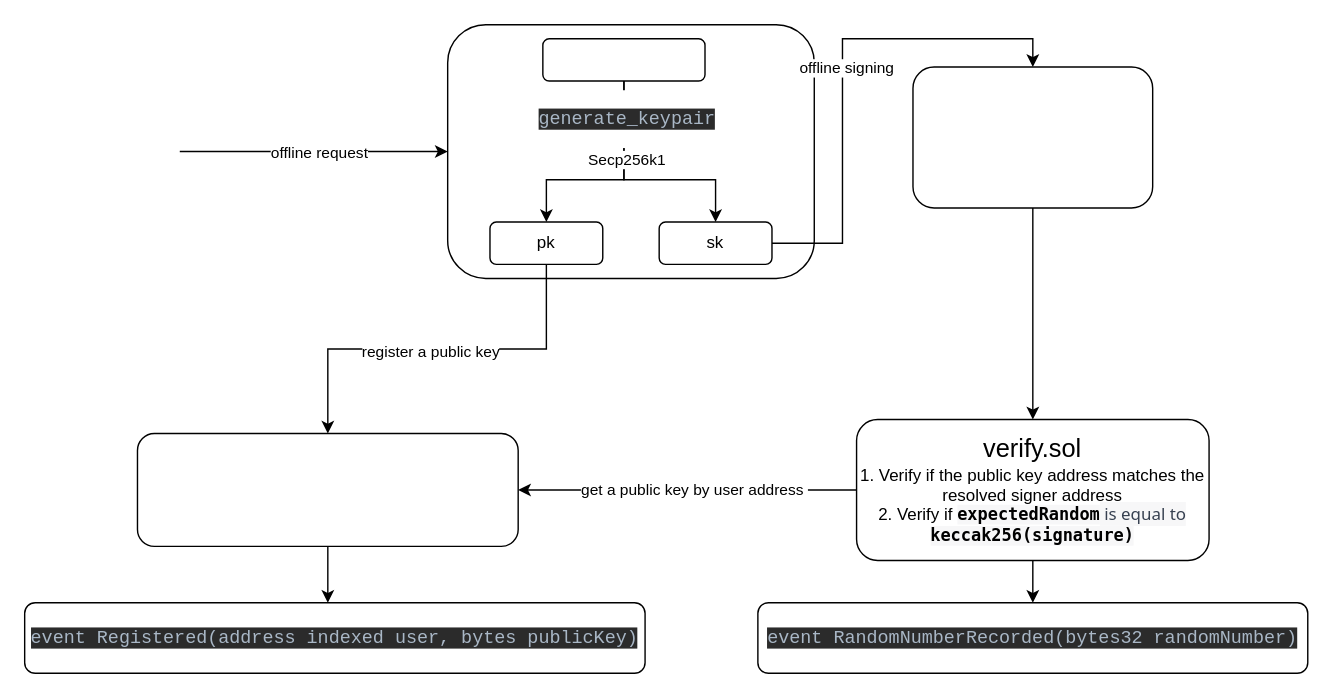
The diagram is 1332 pixels wide and 698 high, and some of its shapes have lost their labels. The centre of each missing label's shape, as x and y in pixels:
applicationAddress messageHash signature expectedRandom: point (1032, 137)
register.sol 1.register(bytes memory publicKey) 2. getPublicKey(address user): point (327, 489)
VrfServer: point (623, 59)
